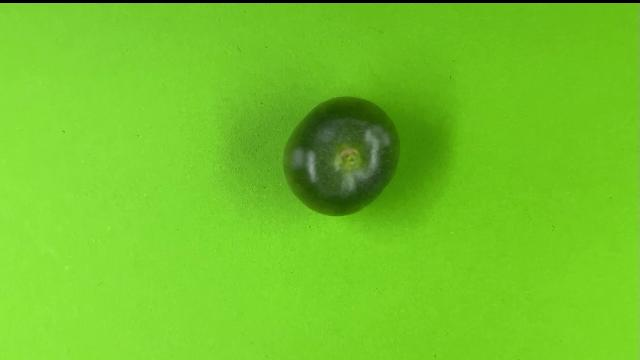Fruit Maturation: (282, 96, 401, 217)
